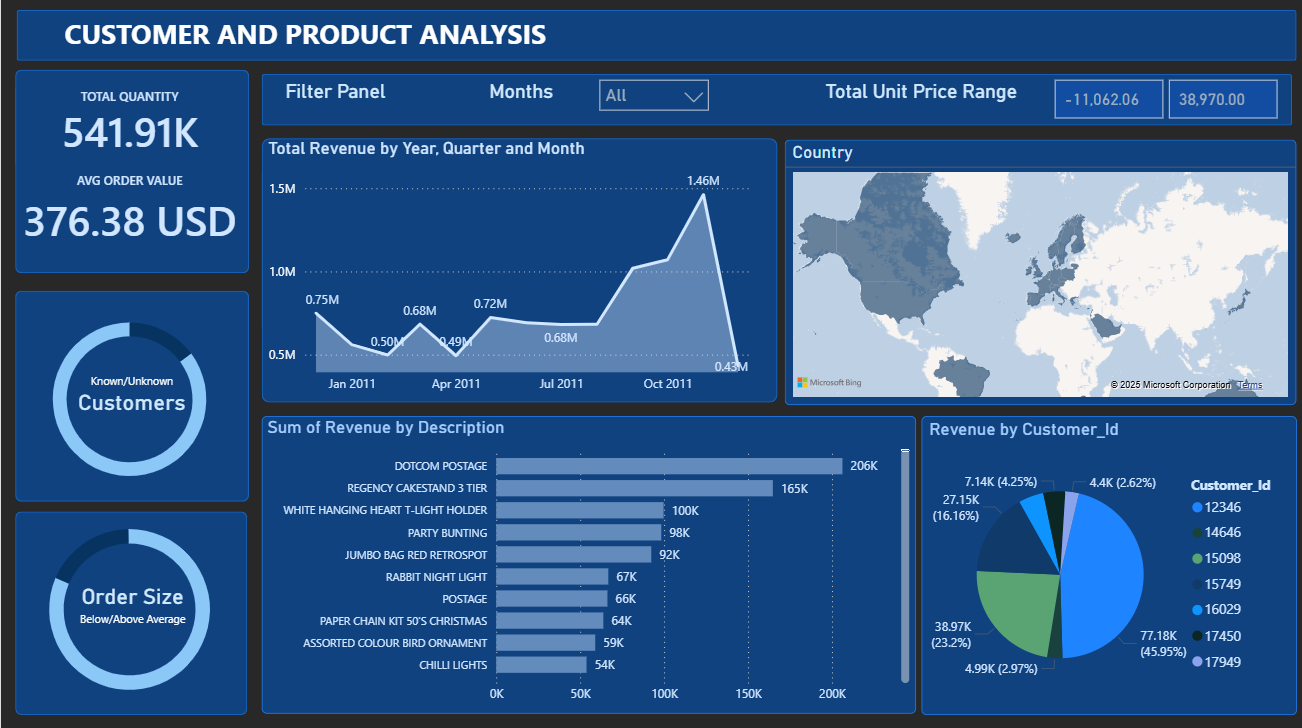

The page's visual inventory and layout, read from the dashboard file:
{"tool":"powerbi","page":{"name":"Page 1","canvas":[1280,720],"ordinal":0},"visuals":[{"type":"shape","box":[15,10,1258.8,50],"z":0},{"type":"textbox","box":[57.5,9.8,1212.4,50.5],"z":1000},{"type":"shape","box":[14.5,69.1,230,200],"z":2000},{"type":"card","title":"TOTAL QUANTITY","fields":{"Values":["sales_data.Total Quantity"]},"box":[11.8,86.4,230.9,73.6],"z":3000},{"type":"card","title":"AVG ORDER VALUE","fields":{"Values":["sales_data.Avg Order Value"]},"box":[10.9,169.1,230.9,78.2],"z":4000},{"type":"shape","box":[14,285.9,229.9,207.4],"z":5000},{"type":"shape","box":[14.5,503.6,228.2,200],"z":6000},{"type":"shape","box":[256.5,72.9,1013.3,50.5],"z":7000},{"type":"shape","box":[257.1,135.7,507.1,260],"z":8000},{"type":"areaChart","fields":{"Y":["sales_data.Total Revenue"],"Category":["sales_data.InvoiceDate.Variation.Date Hierarchy.Year","sales_data.InvoiceDate.Variation.Date Hierarchy.Quarter","sales_data.InvoiceDate.Variation.Date Hierarchy.Month"]},"box":[257.9,136,496.2,259.3],"z":9000},{"type":"filledMap","fields":{"Category":["sales_data.Country"]},"box":[771.2,137.4,503.2,261.1],"z":10000},{"type":"barChart","fields":{"Y":["sales_data.Revenue"],"Category":["sales_data.Description"]},"box":[256.5,409.3,643.3,292.9],"z":11000},{"type":"pieChart","title":"Revenue by Customer_Id","fields":{"Y":["sales_data.Revenue"],"Series":["sales_data.Customer_Id"]},"box":[905.1,408.8,369.3,293.7],"z":13000},{"type":"textbox","box":[274.7,72.9,220,63.1],"z":14000},{"type":"slicer","fields":{"Values":["sales_data.InvoiceDate.Variation.Date Hierarchy.Month"]},"box":[578.8,68.7,127.5,54.7],"z":15000},{"type":"textbox","box":[475.1,72.9,119.1,39.2],"z":16000},{"type":"slicer","fields":{"Values":["sales_data.UnitPrice"]},"box":[1023.1,68.7,246.7,54.7],"z":17000},{"type":"donutChart","fields":{"Y":["sales_data.Revenue"],"Series":["sales_data.Customers"]},"box":[0,242.5,257.9,295.7],"z":17001},{"type":"donutChart","fields":{"Y":["sales_data.Revenue"],"Series":["sales_data.Below/Above Average value"]},"box":[0,473.7,257.9,246.7],"z":17002},{"type":"textbox","box":[0,360.7,257.6,132.3],"z":17003},{"type":"textbox","box":[70.1,569,119.1,75.7],"z":17004},{"type":"textbox","box":[805.9,72.9,199,50.5],"z":17005}]}

Visuals, with their boxes in screenshot pixels (x1, y1, x2, y2), scaled from the page's 1280x720 canvas onto the 1302x728 screenshot:
shape: crop(15, 10, 1296, 61)
textbox: crop(58, 10, 1292, 61)
shape: crop(15, 70, 249, 272)
"TOTAL QUANTITY" card: crop(12, 87, 247, 162)
"AVG ORDER VALUE" card: crop(11, 171, 246, 250)
shape: crop(14, 289, 248, 499)
shape: crop(15, 509, 247, 711)
shape: crop(261, 74, 1292, 125)
shape: crop(262, 137, 777, 400)
areaChart - sales_data.Total Revenue x sales_data.InvoiceDate.Variation.Date Hierarchy.Year: crop(262, 138, 767, 400)
filledMap - sales_data.Country: crop(784, 139, 1296, 403)
barChart - sales_data.Revenue x sales_data.Description: crop(261, 414, 915, 710)
"Revenue by Customer_Id" pieChart: crop(921, 413, 1296, 710)
textbox: crop(279, 74, 503, 138)
slicer - sales_data.InvoiceDate.Variation.Date Hierarchy.Month: crop(589, 69, 718, 125)
textbox: crop(483, 74, 604, 113)
slicer - sales_data.UnitPrice: crop(1041, 69, 1292, 125)
donutChart - sales_data.Revenue x sales_data.Customers: crop(0, 245, 262, 544)
donutChart - sales_data.Revenue x sales_data.Below/Above Average value: crop(0, 479, 262, 727)
textbox: crop(0, 365, 262, 498)
textbox: crop(71, 575, 192, 652)
textbox: crop(820, 74, 1022, 125)
